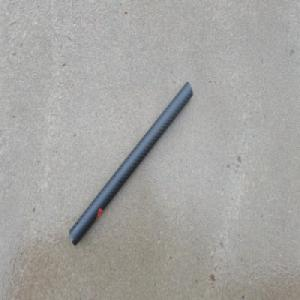LuggagePart: (68, 81, 193, 248)
